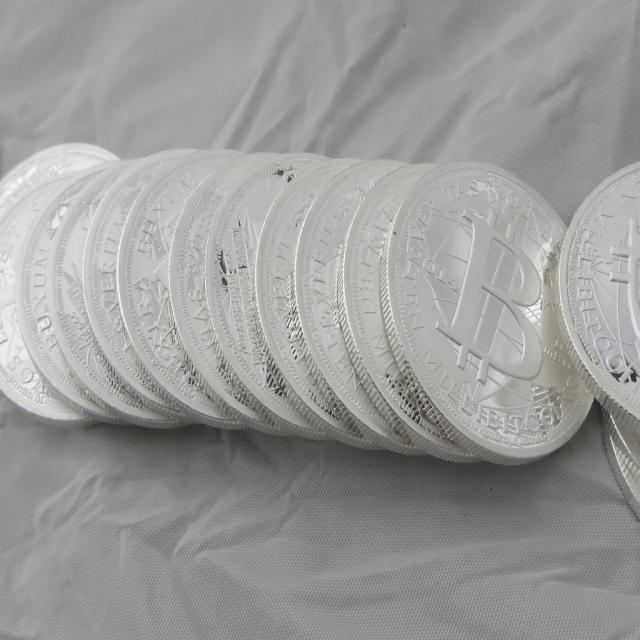Coin: (0, 139, 640, 525)
